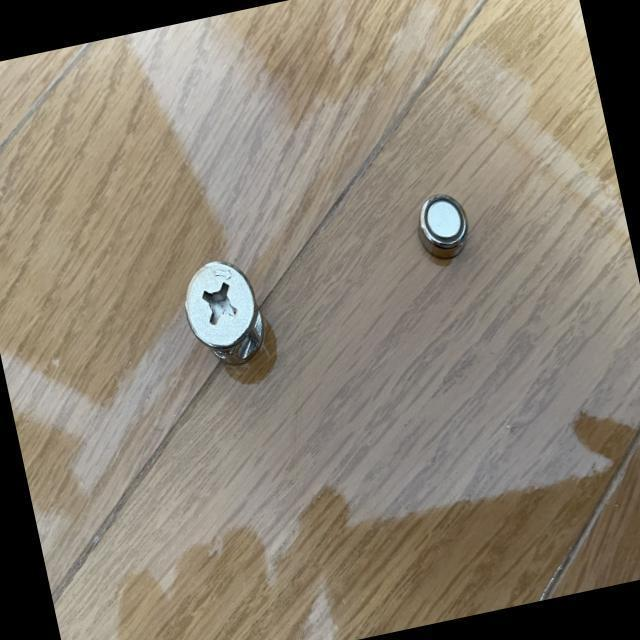COIN: (410, 187, 475, 265)
